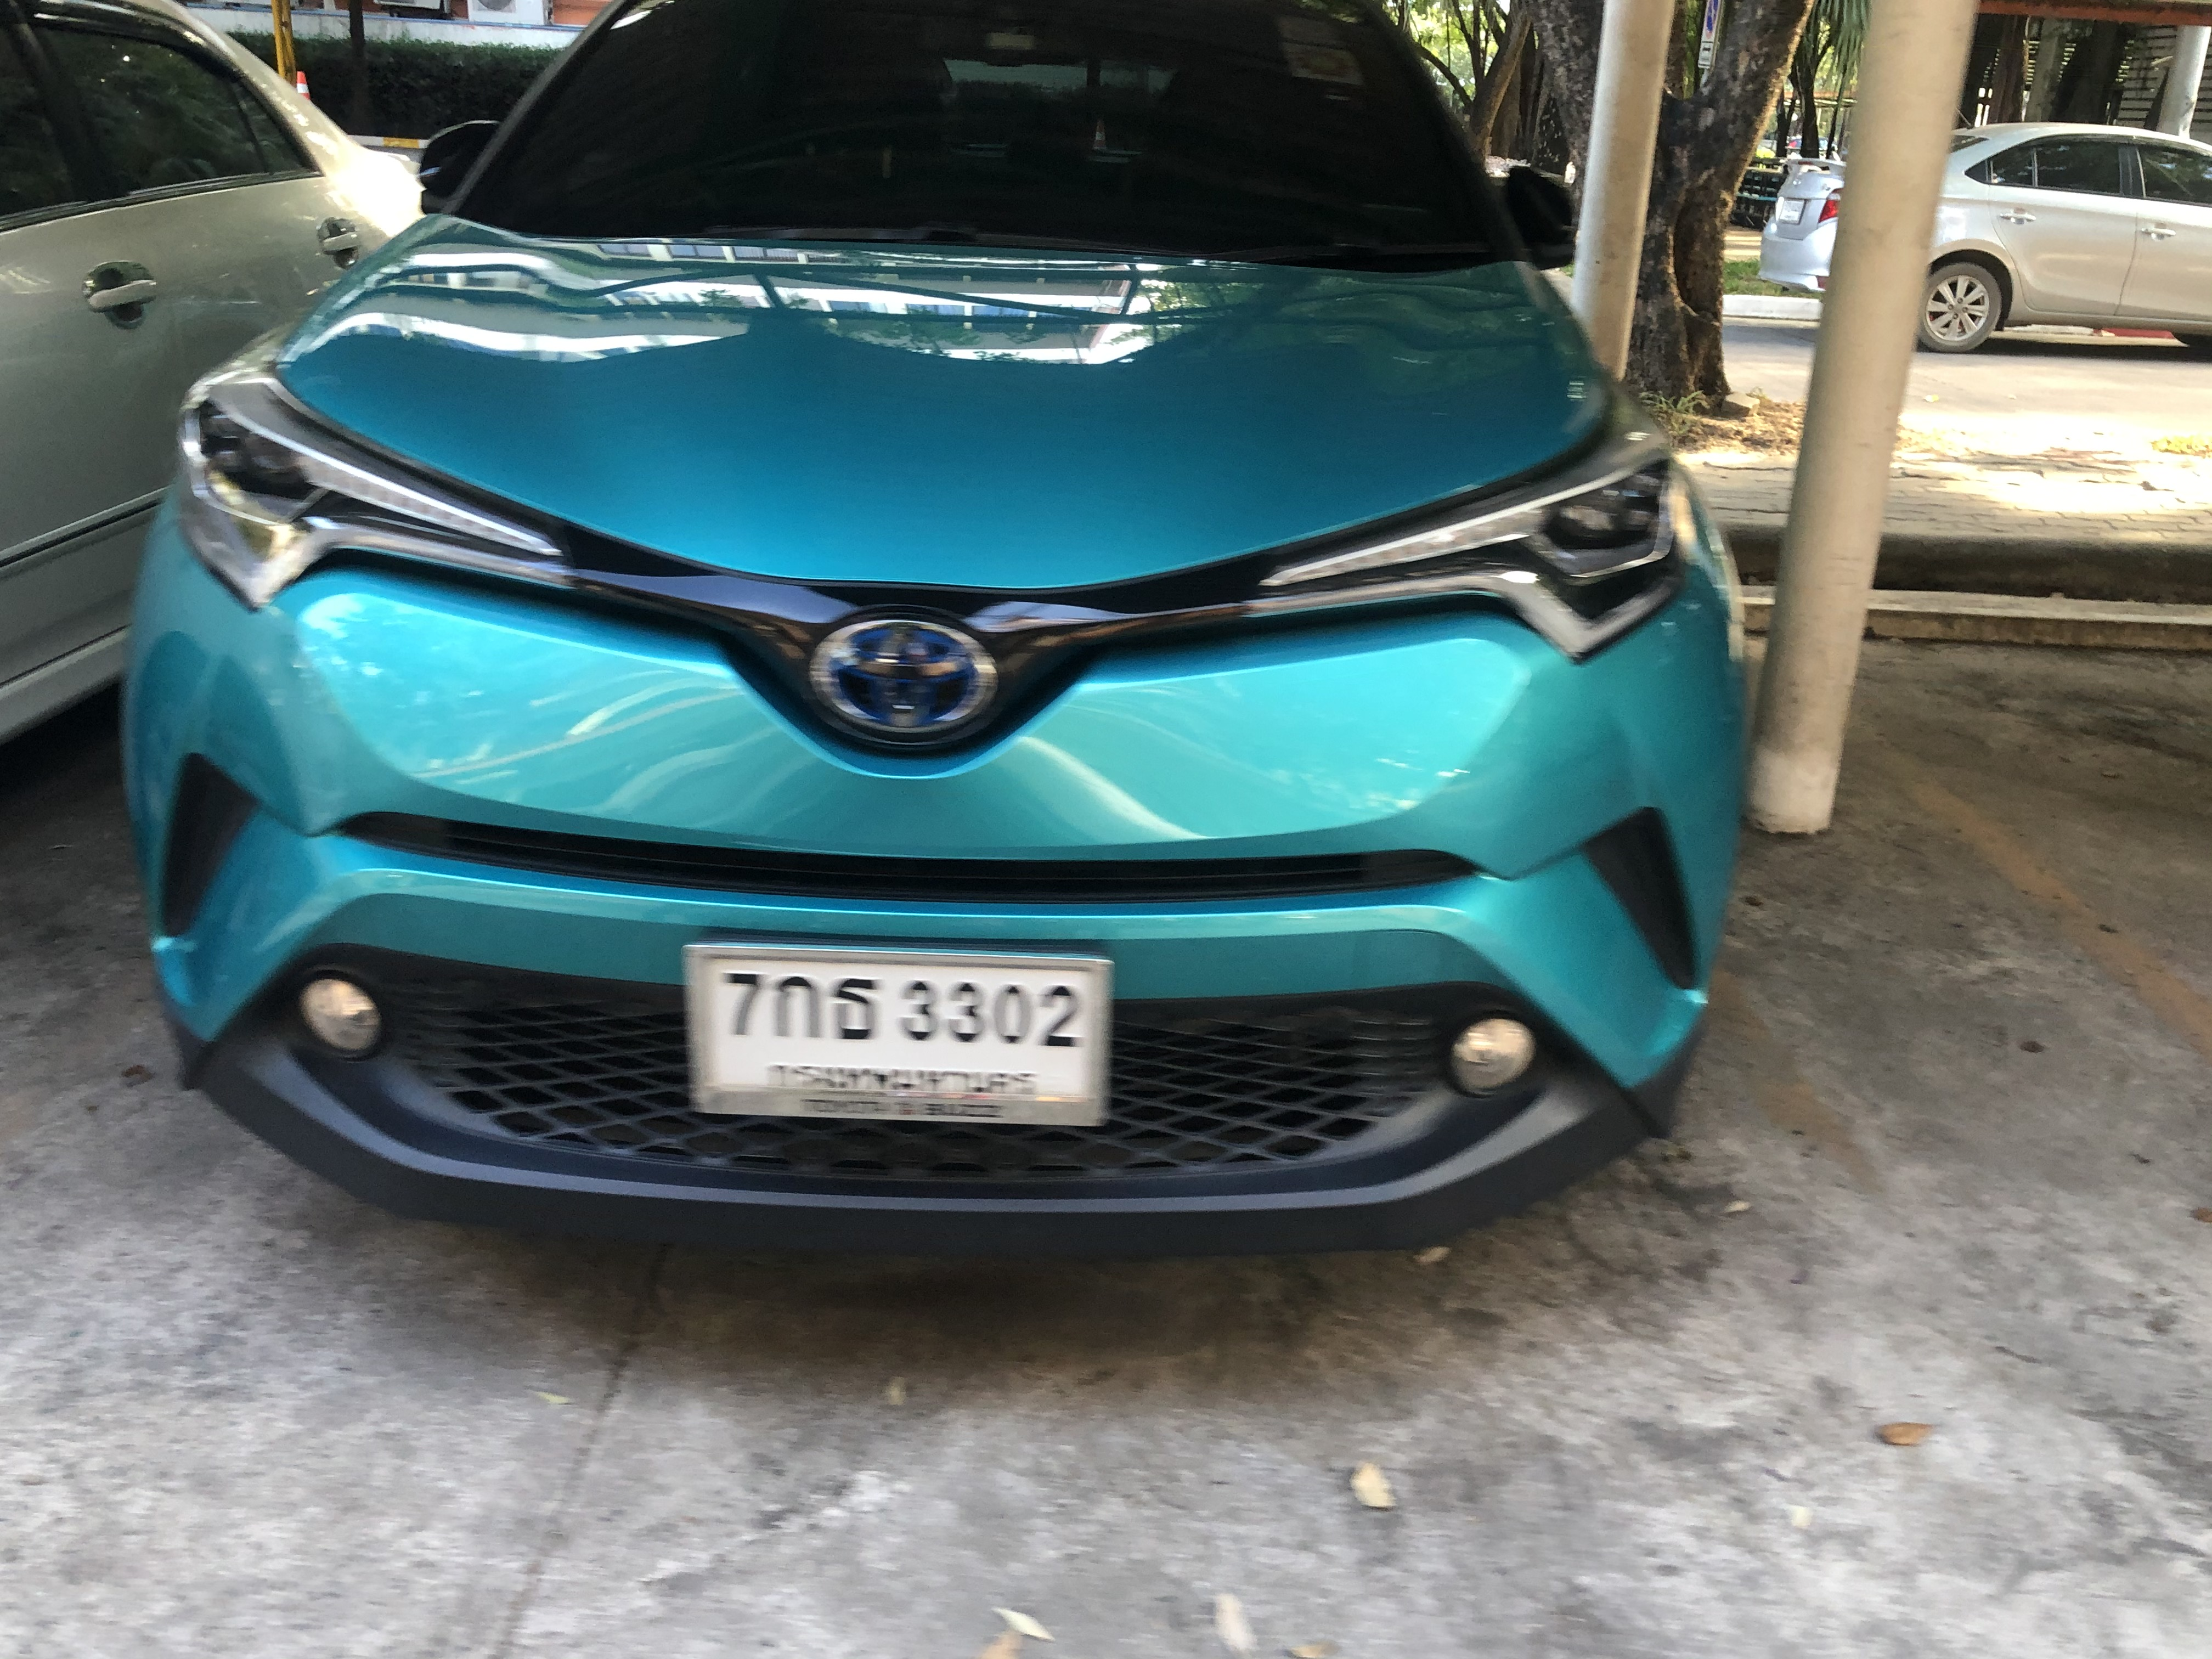in: (711, 964, 1092, 1107)
out: (681, 943, 1111, 1131)
